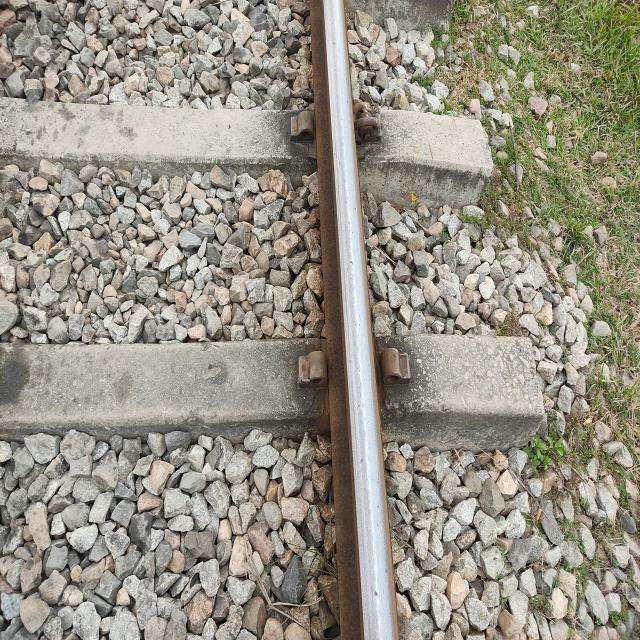No Fault: (373, 339, 424, 393), (293, 342, 331, 404)
